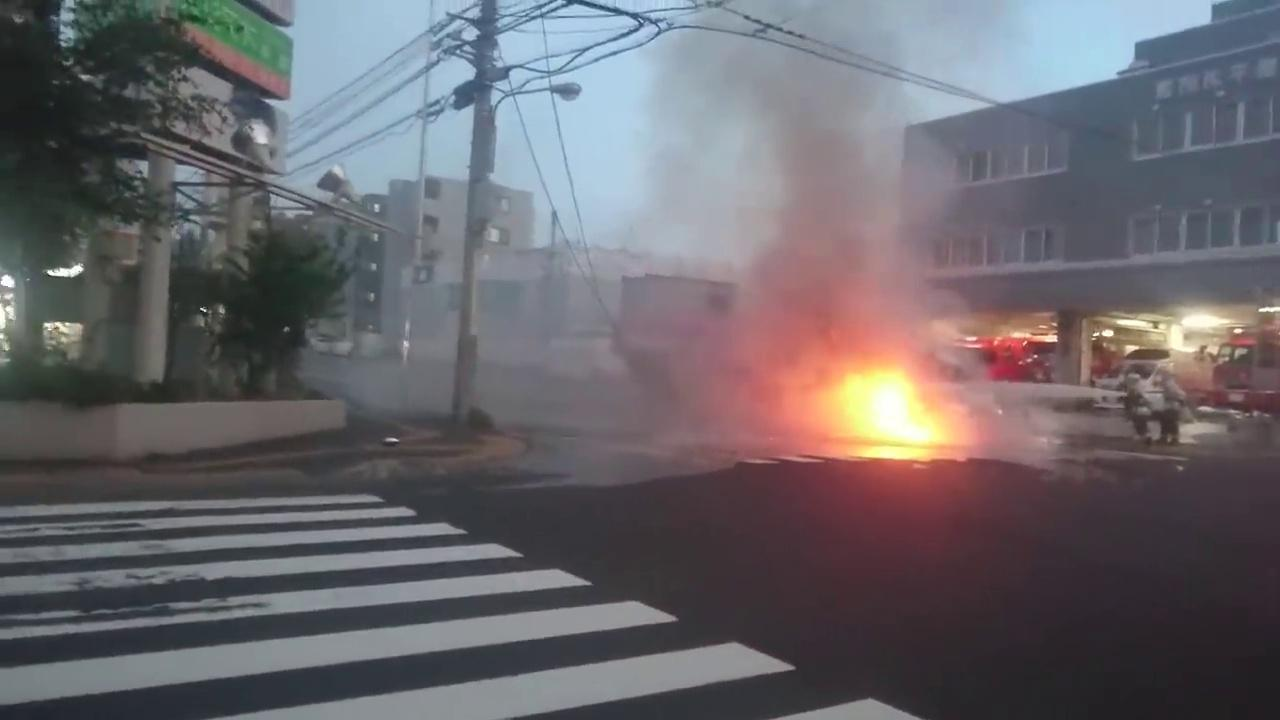Fire: (848, 369, 957, 444)
